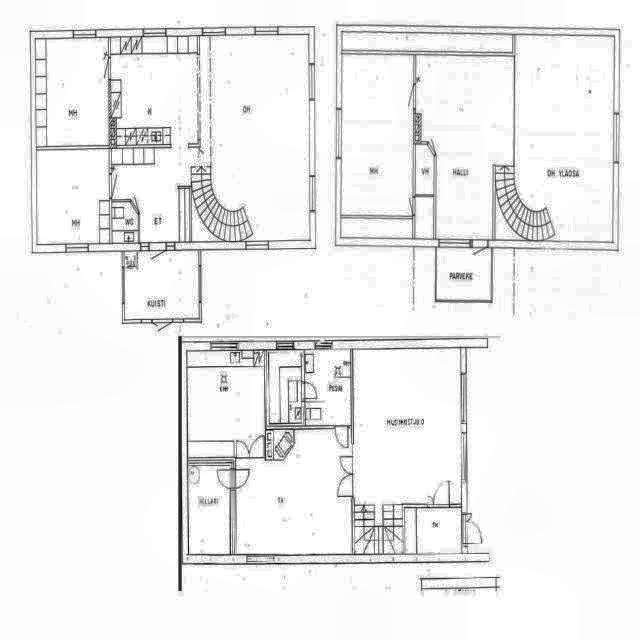room: (341, 54, 414, 216), (187, 351, 265, 457), (36, 38, 109, 147), (36, 149, 110, 244), (124, 250, 199, 319), (188, 466, 230, 554), (304, 349, 351, 426), (436, 248, 492, 301), (405, 507, 462, 554), (269, 350, 302, 423)
